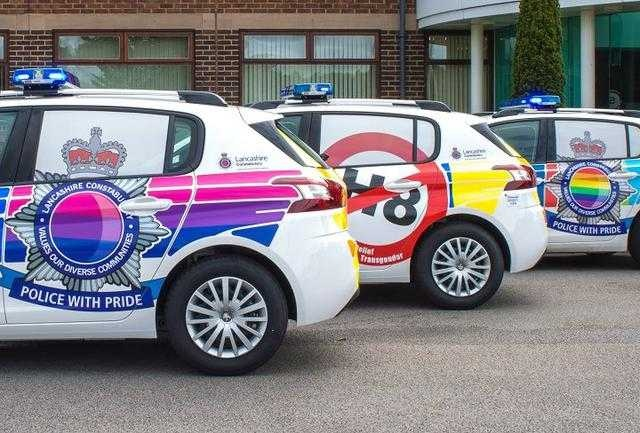Police Car: (0, 61, 385, 379), (269, 77, 550, 328), (471, 89, 640, 274)
